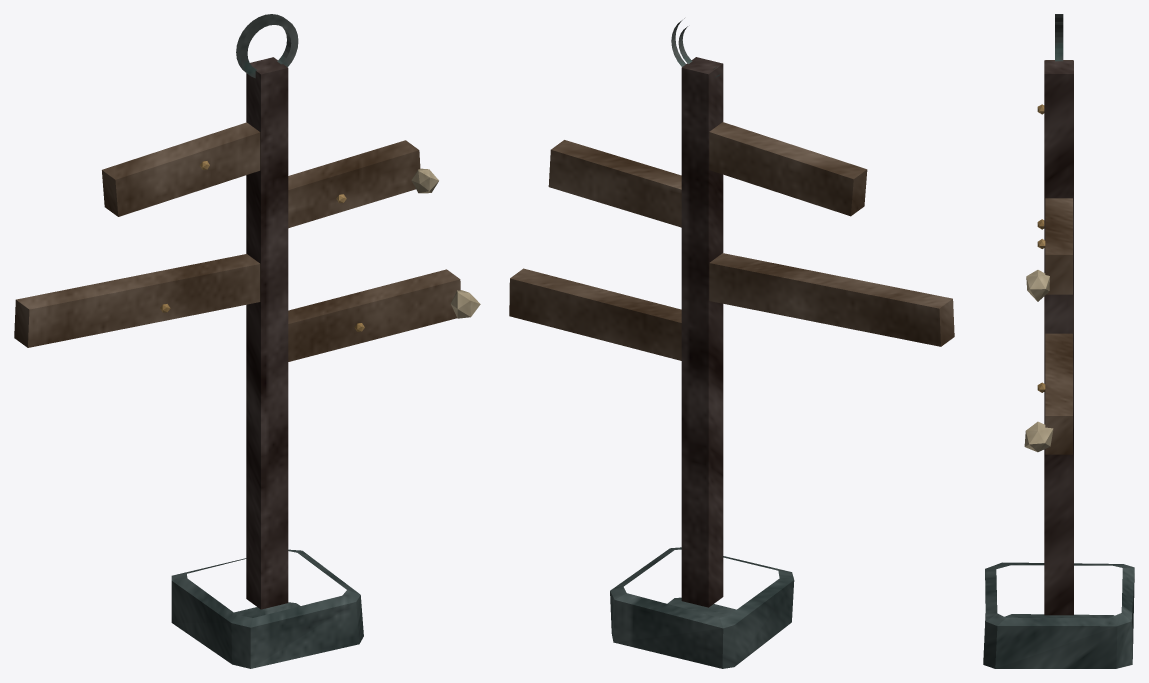
Rendered from 0628_signpost_03.glb.
3 views of the same model, side by side, from view 1: azimuth 30°, elevation 25°; view 2: azimuth 150°, elevation 25°; view 3: azimuth 270°, elevation 25° (orthographic).
Visible parts, largest first — view 1: wood, wood_dark, stone_dark, iron, bone; view 2: wood, wood_dark, stone_dark; view 3: wood_dark, stone_dark, wood, bone, iron, brass.
Part boxes in pixels (x1,y1,x2,y2): wood: (14, 122, 460, 361); wood_dark: (246, 57, 288, 609); stone_dark: (171, 549, 363, 668); iron: (236, 14, 298, 78); bone: (411, 168, 480, 318); wood: (509, 122, 954, 360); wood_dark: (681, 57, 723, 607); stone_dark: (610, 547, 794, 668); wood_dark: (1044, 60, 1073, 615); stone_dark: (983, 562, 1134, 668); wood: (1045, 60, 1072, 454); bone: (1024, 270, 1053, 452); iron: (1055, 14, 1063, 61); brass: (1037, 104, 1045, 392).
Bounding box in the file's own units: 2.45 × 3.25 × 0.714.
6 materials, 6 textured.
